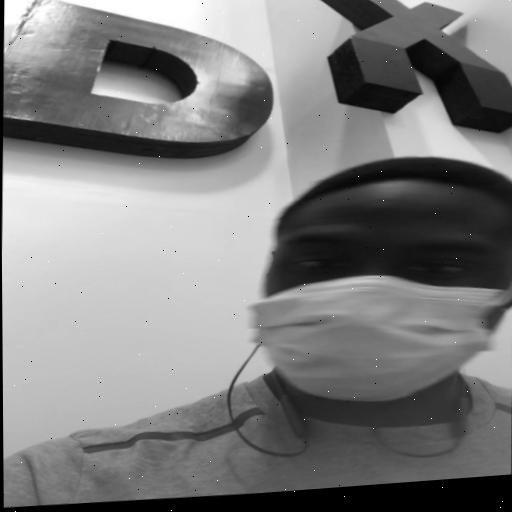mask: (247, 185, 512, 414)
